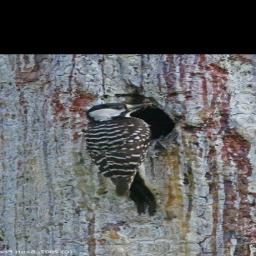Woodpecker: (78, 100, 162, 216)
